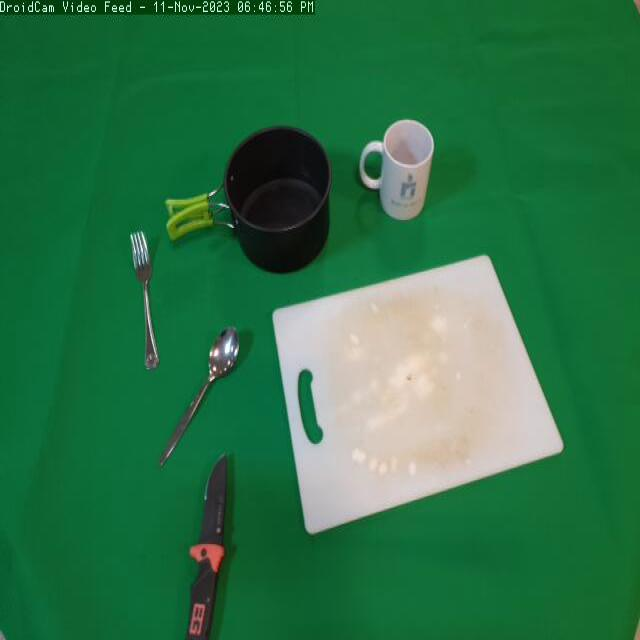cup: (352, 108, 439, 244)
cutting board: (266, 239, 576, 552)
fork: (125, 223, 171, 380)
knife: (171, 446, 251, 640)
pot: (159, 122, 340, 295)
spoon: (153, 316, 243, 468)
